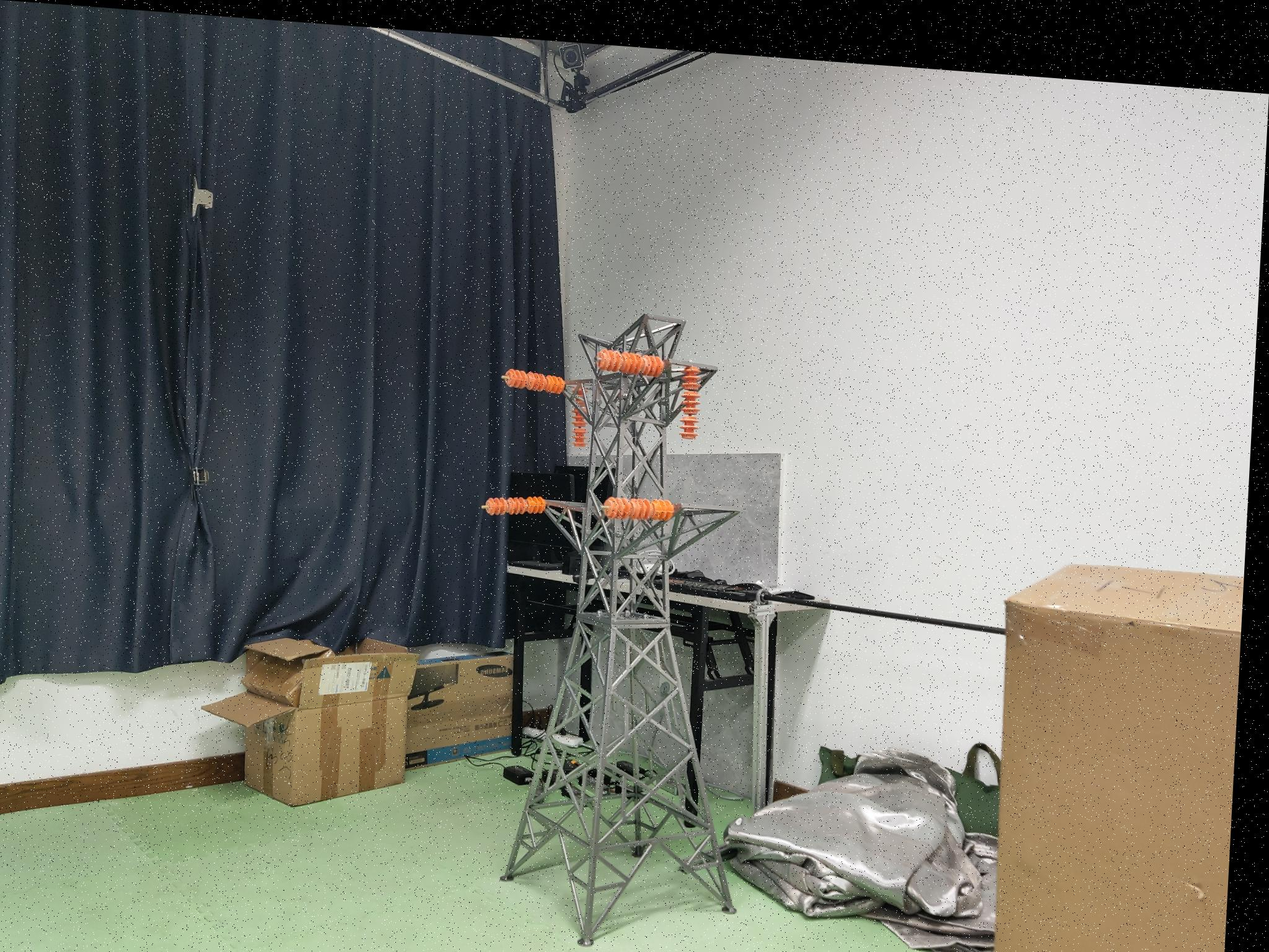tower: (504, 303, 764, 946)
